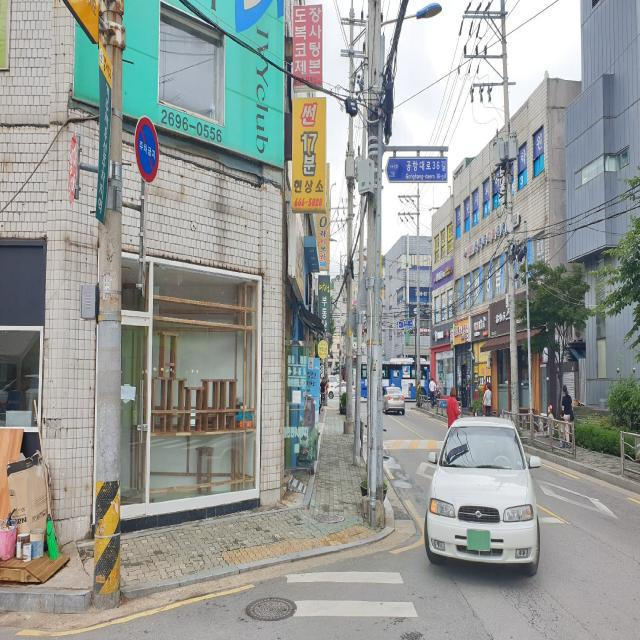횡단보도: (284, 568, 421, 621)
